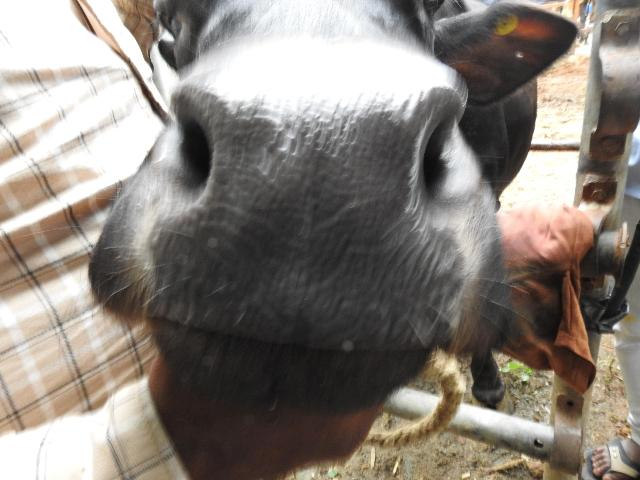Muzzle: (176, 76, 442, 330)
